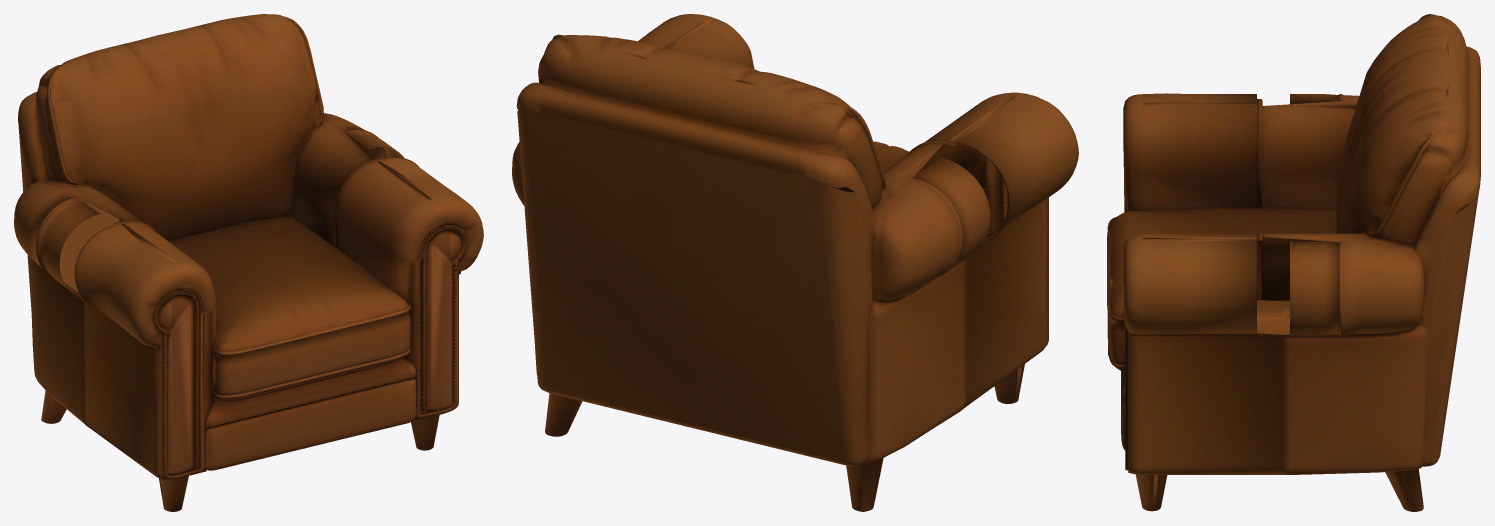
Rendered from a_leather_armchair_d60f1c61_v3.glb.
3 views of the same model, side by side, from view 1: azimuth 30°, elevation 25°; view 2: azimuth 150°, elevation 25°; view 3: azimuth 270°, elevation 25° (orthographic). The views are drawn at different scales.
Parts seen in each view (by area): view 1: material; view 2: material; view 3: material.
Boxes of the visible parts, x1,y1,x2,y2 form: material: (14,14,483,511); material: (512,14,1078,511); material: (1107,14,1480,511).
Bounding box in the file's own units: 1.9 × 1.78 × 1.61.
Materials: 1 (1 with a texture image).
